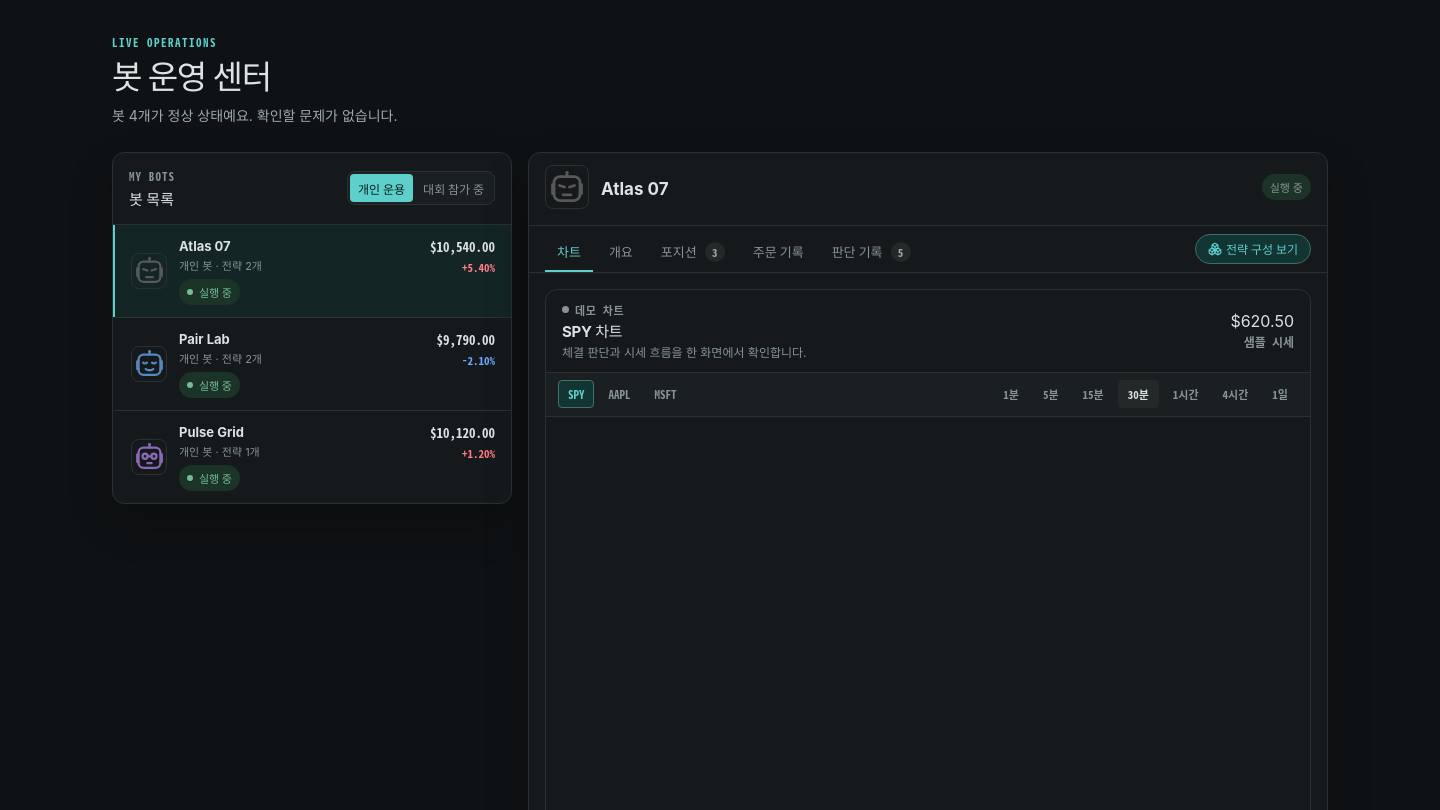
Test: Bot operations › the operation type filter separates personal bots from competition bots
Expected: the number of list items is 3, x1=113 y1=225 x2=511 y2=317; x1=113 y1=317 x2=511 y2=410; x1=113 y1=410 x2=511 y2=503
Expected: the button with aria-label "Atlas 07 상세 보기" is shown, x1=113 y1=225 x2=511 y2=317
Click the button "대회 참가 중": (454, 188) x1=415 y1=174 x2=492 y2=202
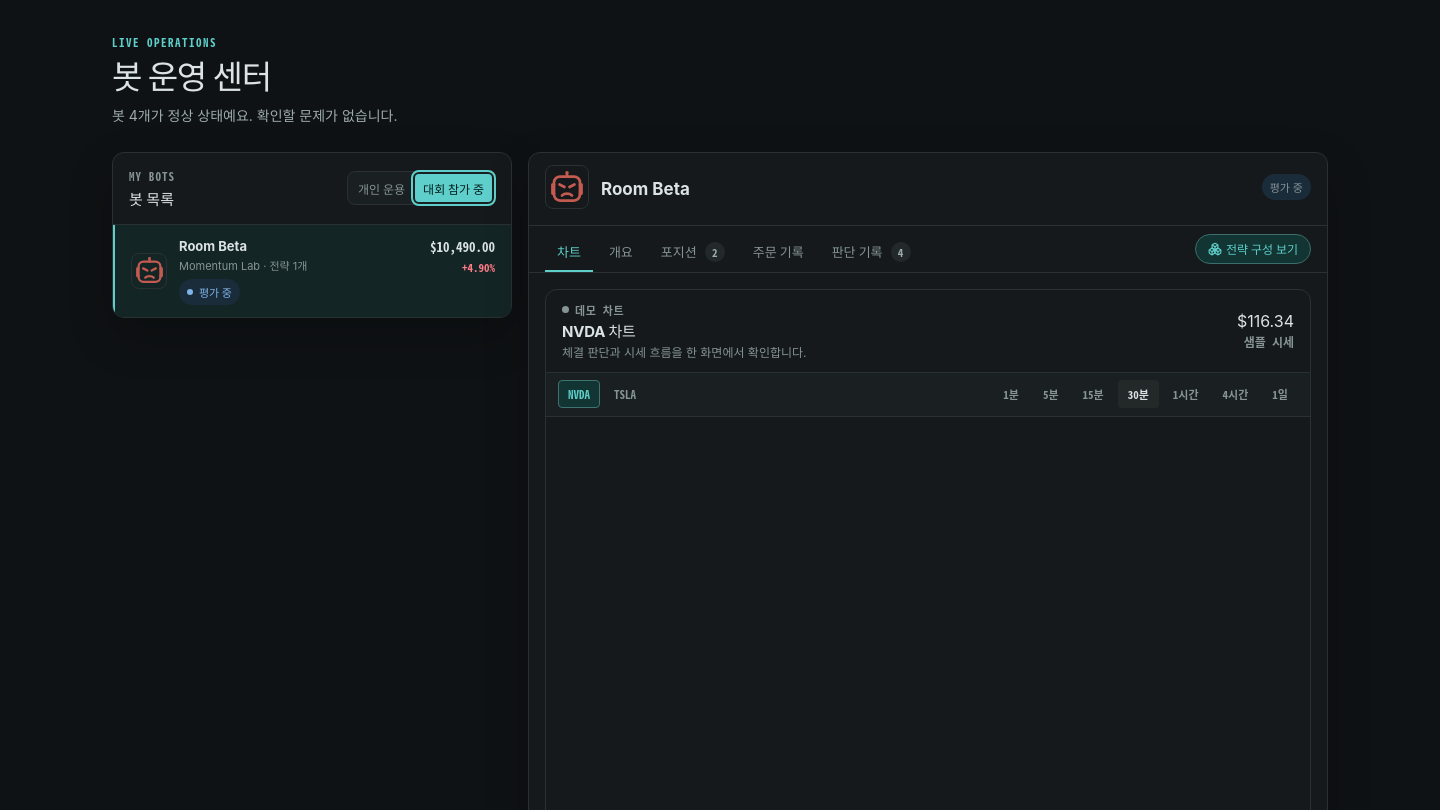
Expected: the number of list items is 1, x1=113 y1=225 x2=511 y2=317
